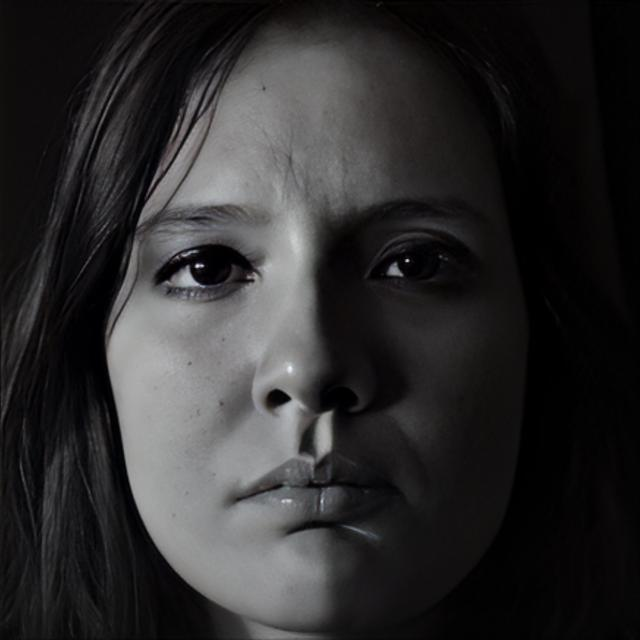sad: (98, 33, 527, 630)
